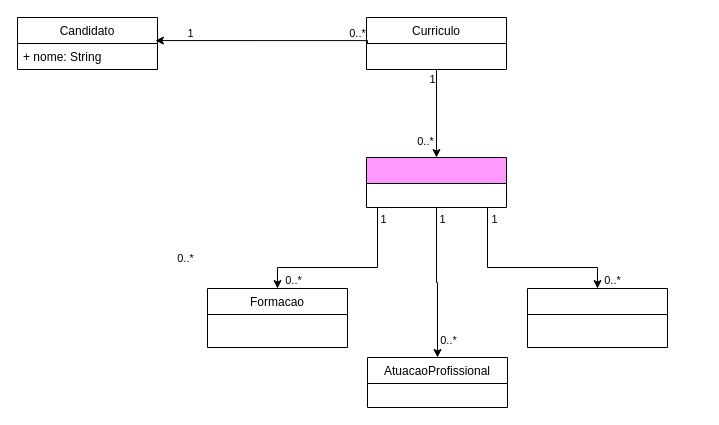
Image size: 719x425. Some labels were removed from this diagram. The box of each missing label's shape, as (x1, y1, x2, y2) in pixels:
Projeto: (526, 288, 668, 348)
Registro: (366, 156, 506, 208)
